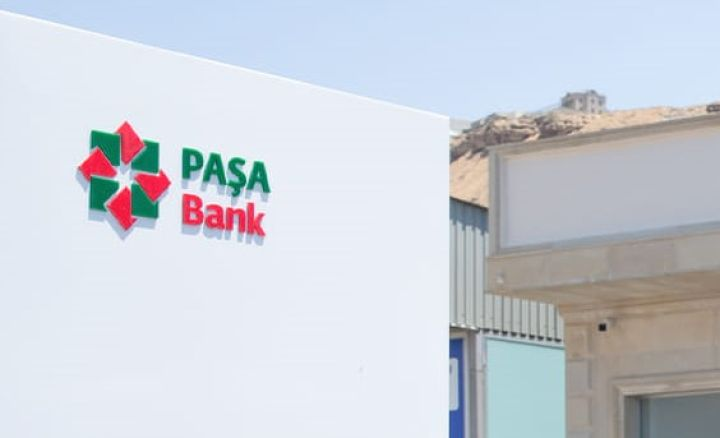Pasha Bank: (74, 118, 173, 230)
